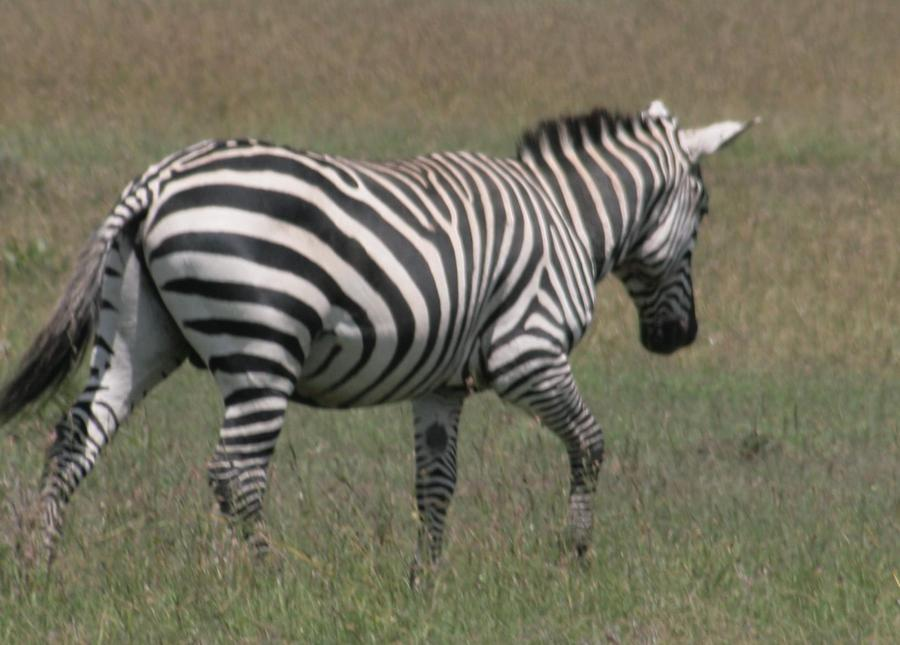zebra_plains: (160, 109, 607, 431)
